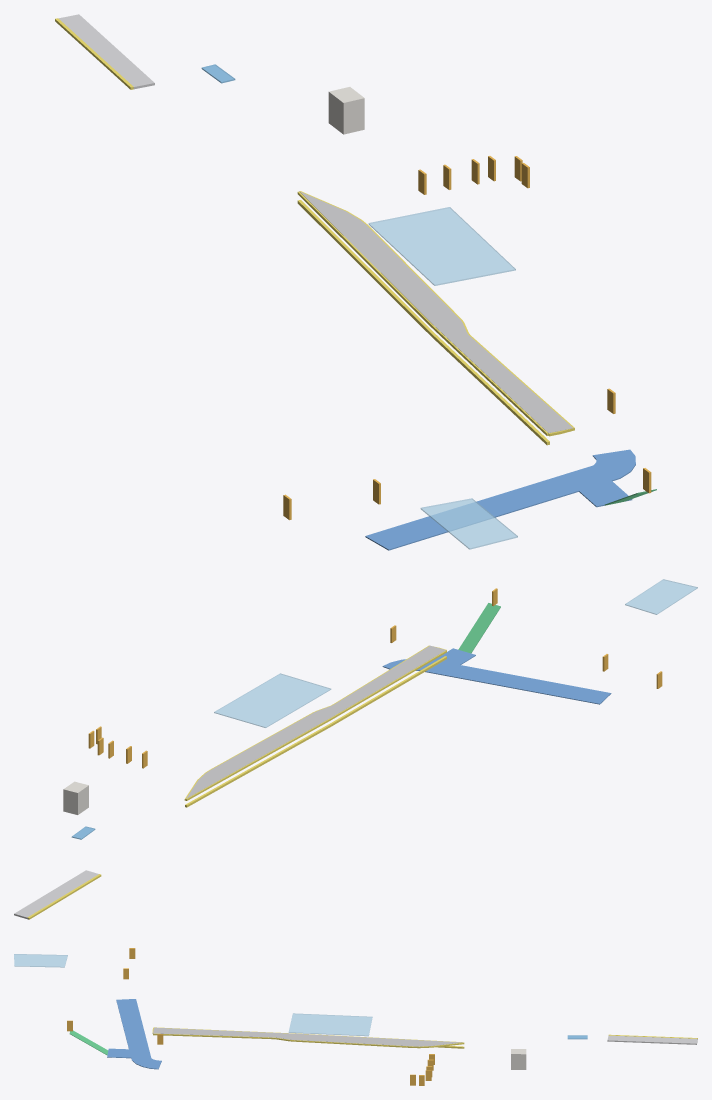
The model's file is 8508055-unterzollikofen.glb.
The picture shows the model from 3 angles, top to bottom: view 1: azimuth 30°, elevation 25°; view 2: azimuth 150°, elevation 25°; view 3: azimuth 270°, elevation 25°; orthographic projection. The views are drawn at different scales.
Parts seen in each view (by area): view 1: roof@0, platform_surface@0, passage@-1, boarding_edge@0, access_point@0, platform_body@0, building_part@x; view 2: roof@0, platform_surface@0, passage@-1, boarding_edge@0, access_point@0, platform_body@0, stairs@x, building_part@x; view 3: roof@0, platform_surface@0, passage@-1, boarding_edge@0, access_point@0, platform_body@0, building_part@x.
Part boxes in pixels (<box>): roof@0: <box>368,207,517,549</box>; platform_surface@0: <box>299,191,572,433</box>; passage@-1: <box>365,449,635,550</box>; boarding_edge@0: <box>55,18,574,445</box>; access_point@0: <box>283,156,651,520</box>; platform_body@0: <box>58,14,154,89</box>; building_part@x: <box>328,87,364,134</box>; roof@0: <box>214,579,697,727</box>; platform_surface@0: <box>186,645,445,798</box>; passage@-1: <box>382,648,611,704</box>; boarding_edge@0: <box>27,645,446,919</box>; access_point@0: <box>88,588,662,768</box>; platform_body@0: <box>14,870,98,919</box>; stairs@x: <box>458,603,500,653</box>; building_part@x: <box>63,781,88,814</box>; roof@0: <box>14,954,372,1036</box>; platform_surface@0: <box>153,1027,463,1046</box>; passage@-1: <box>107,999,161,1069</box>; boarding_edge@0: <box>152,1027,697,1048</box>; access_point@0: <box>67,948,434,1085</box>; platform_body@0: <box>607,1035,697,1044</box>; building_part@x: <box>511,1049,526,1069</box>.
Bounding box in the file's own units: 60.55 × 9.12 × 137.
